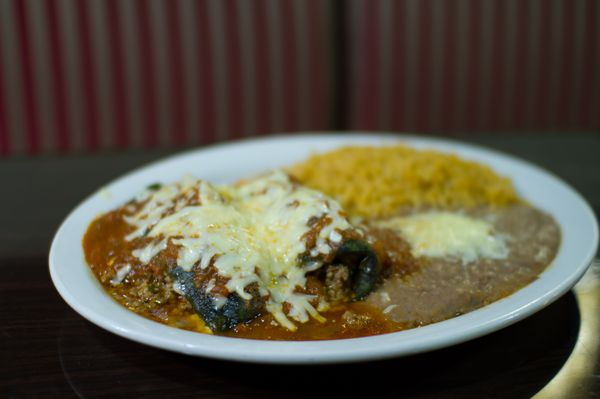sushi: (18, 126, 596, 368)
